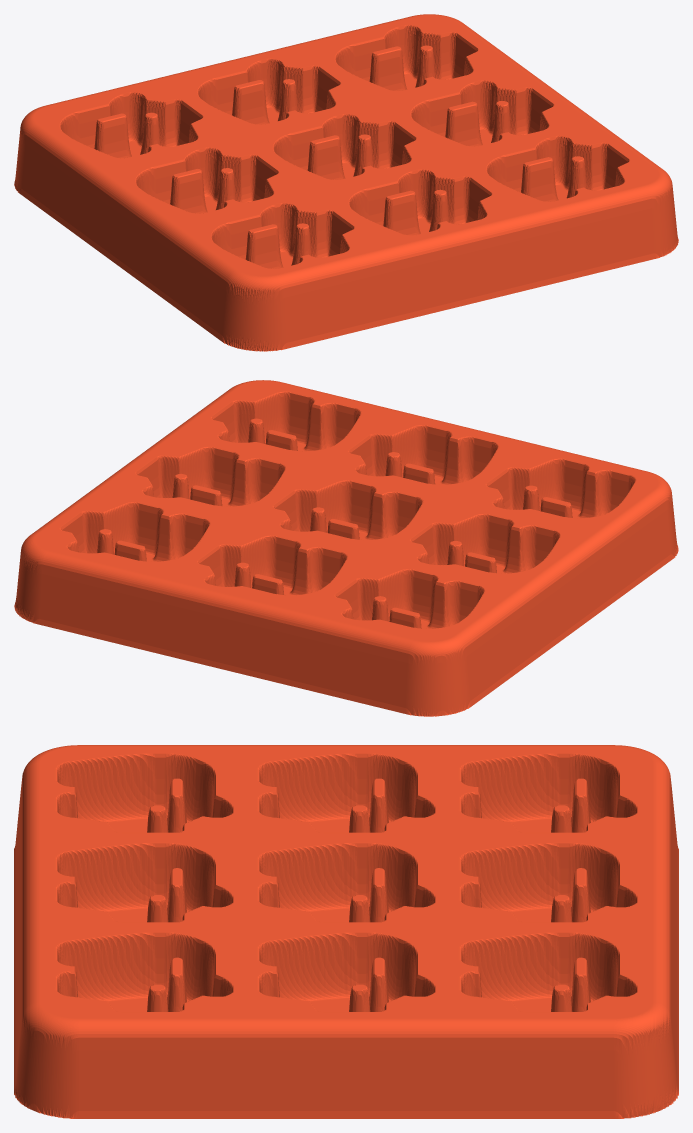
File: mold.glb
3 views of the same model, one above another, from view 1: azimuth 30°, elevation 25°; view 2: azimuth 150°, elevation 25°; view 3: azimuth 270°, elevation 25° (orthographic). The views are drawn at different scales.
Parts seen in each view (by area): view 1: geometry_0; view 2: geometry_0; view 3: geometry_0.
Part boxes in pixels (x1,y1,x2,y2): geometry_0: [14, 14, 678, 351]; geometry_0: [14, 380, 678, 716]; geometry_0: [14, 745, 678, 1118].
Size of the model in its own units: 0.0964 by 0.0136 by 0.0922.
